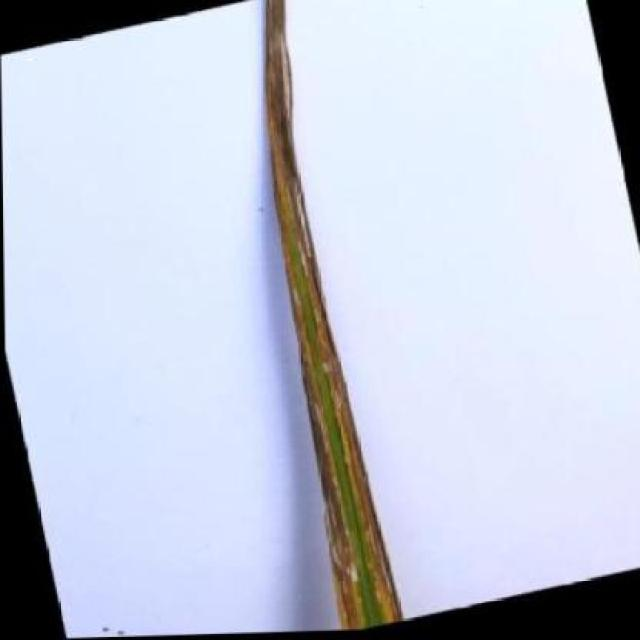Rice False Smut: (263, 0, 402, 632)
